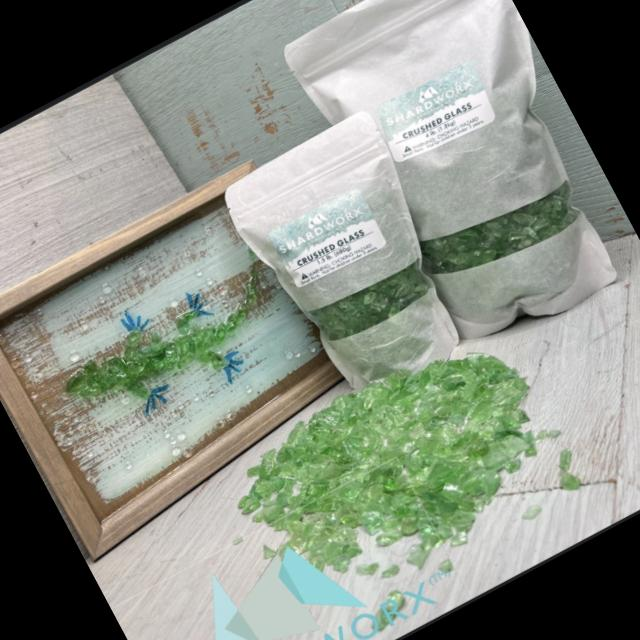PecahanKaca: (210, 310, 587, 634), (212, 104, 490, 418), (42, 241, 307, 454)
